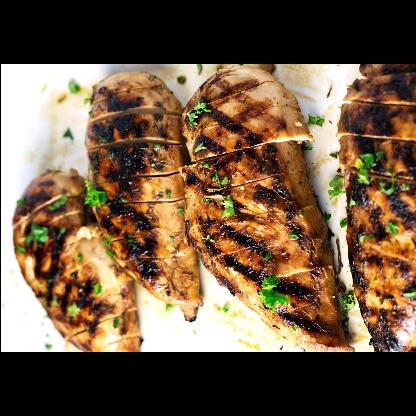grilled chicken breast: (181, 66, 347, 352), (85, 74, 199, 320), (11, 170, 138, 354), (336, 66, 416, 354)
